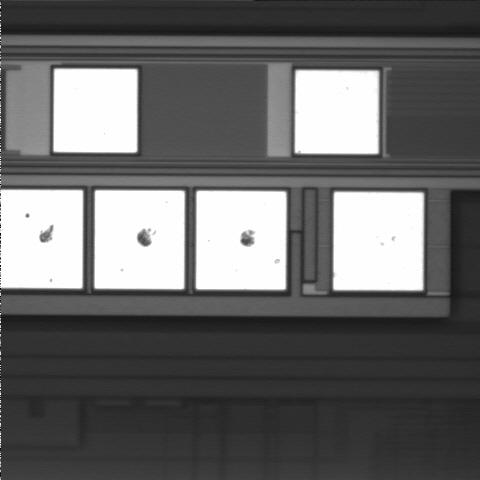pad: (333, 192, 424, 290), (95, 190, 185, 289), (196, 191, 286, 290), (295, 70, 379, 154), (54, 69, 137, 153)
